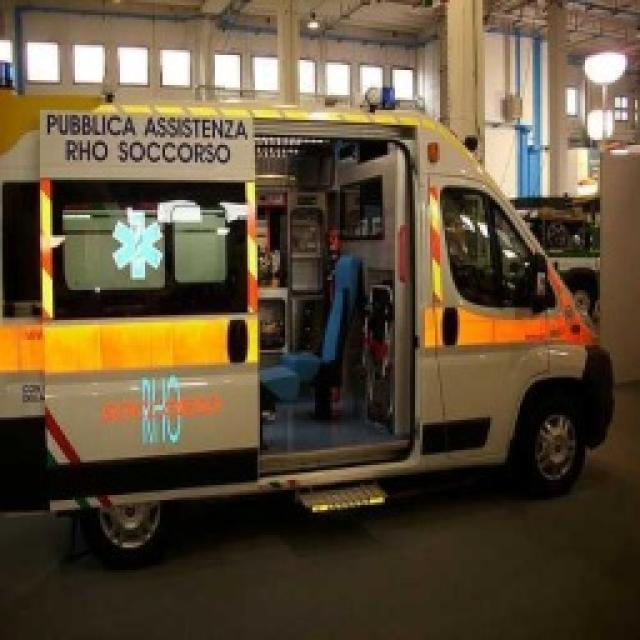emergency-vehicle: (1, 94, 618, 544)
